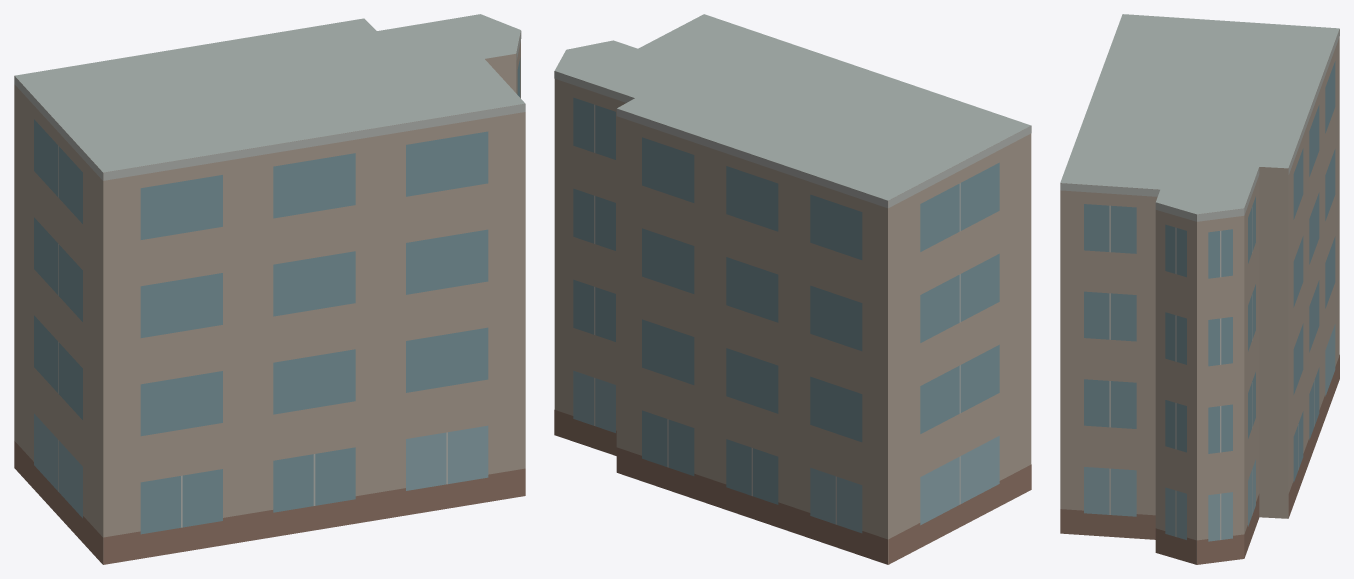
Rendered from survey-upis-32653820.glb.
3 renders of one model, left to right at view 1: azimuth 30°, elevation 25°; view 2: azimuth 150°, elevation 25°; view 3: azimuth 270°, elevation 25°, orthographic. The views are drawn at different scales.
Parts seen in each view (by area): view 1: survey-upis-32653820.tmp; view 2: survey-upis-32653820.tmp; view 3: survey-upis-32653820.tmp.
Boxes of the visible parts, left/top/right/bottom form: survey-upis-32653820.tmp: left=14, top=14, right=525, bottom=564; survey-upis-32653820.tmp: left=554, top=14, right=1031, bottom=564; survey-upis-32653820.tmp: left=1060, top=14, right=1339, bottom=564.
Size of the model in its own units: 14.11 by 11.5 by 8.33.
